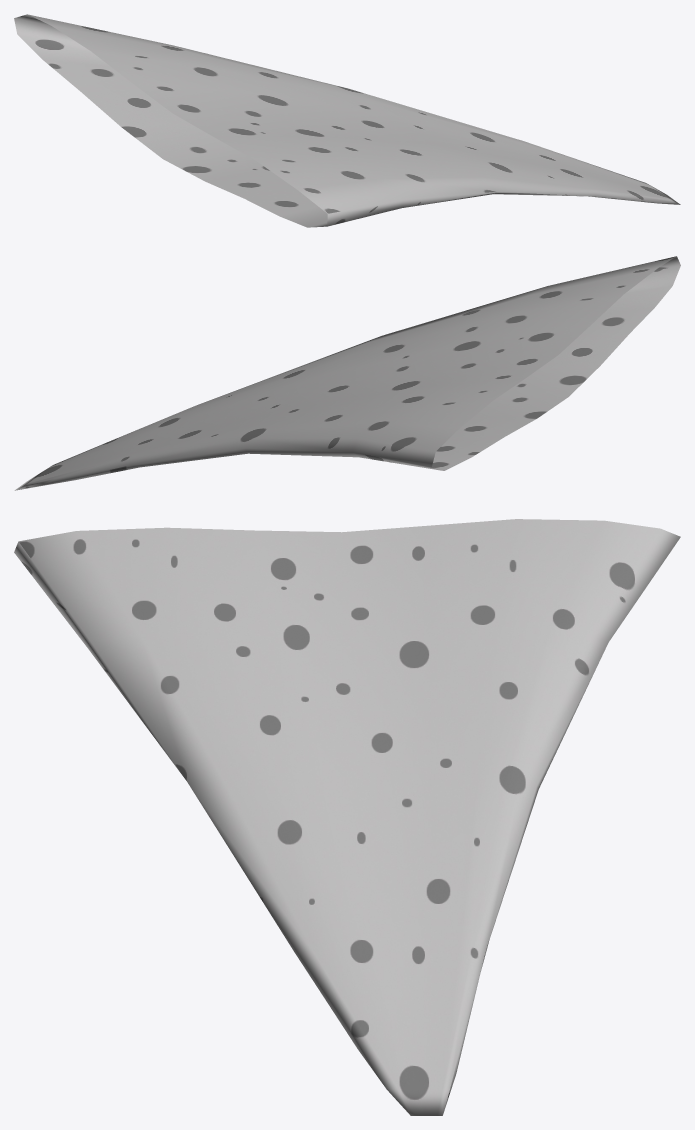
The model's file is aletaIzqManta2.obj.
3 renders of one model, top to bottom at view 1: azimuth 30°, elevation 25°; view 2: azimuth 150°, elevation 25°; view 3: azimuth 270°, elevation 25°, orthographic. The views are drawn at different scales.
Parts seen in each view (by area): view 1: aletaIzqManta1:Box01; view 2: aletaIzqManta1:Box01; view 3: aletaIzqManta1:Box01.
Boxes of the visible parts, x1,y1,x2,y2 form: aletaIzqManta1:Box01: (14,14,680,227); aletaIzqManta1:Box01: (14,256,680,490); aletaIzqManta1:Box01: (14,519,680,1115).
Size of the model in its own units: 6.23 by 2.71 by 5.62.
1 material, 1 textured.
